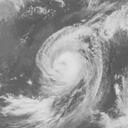cyclone: (34, 23, 104, 98)
